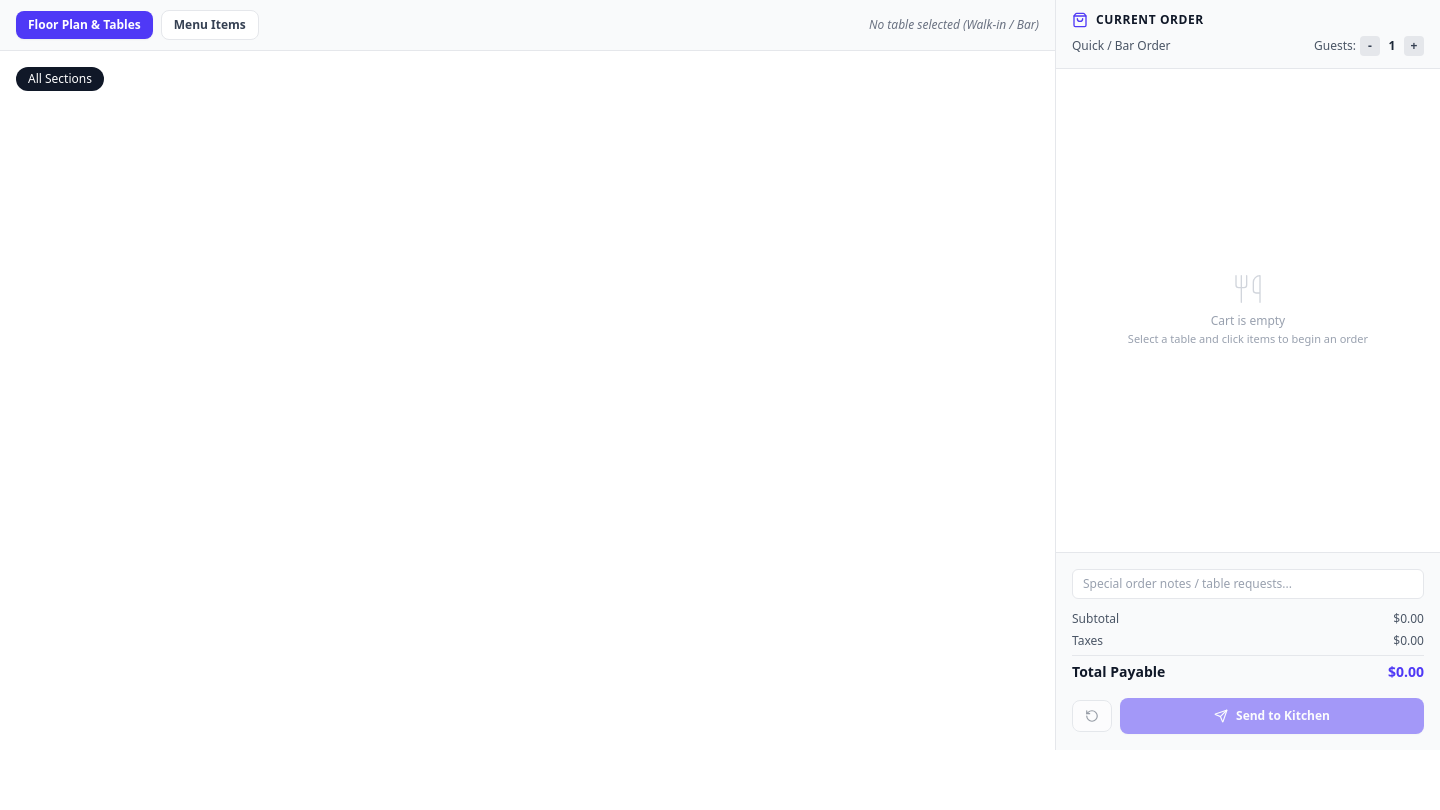
PosPage Component › switches to Menu Items view and displays catalog
Click the button "Menu Items".
click(210, 25)  # box left=161, top=10, right=259, bottom=40
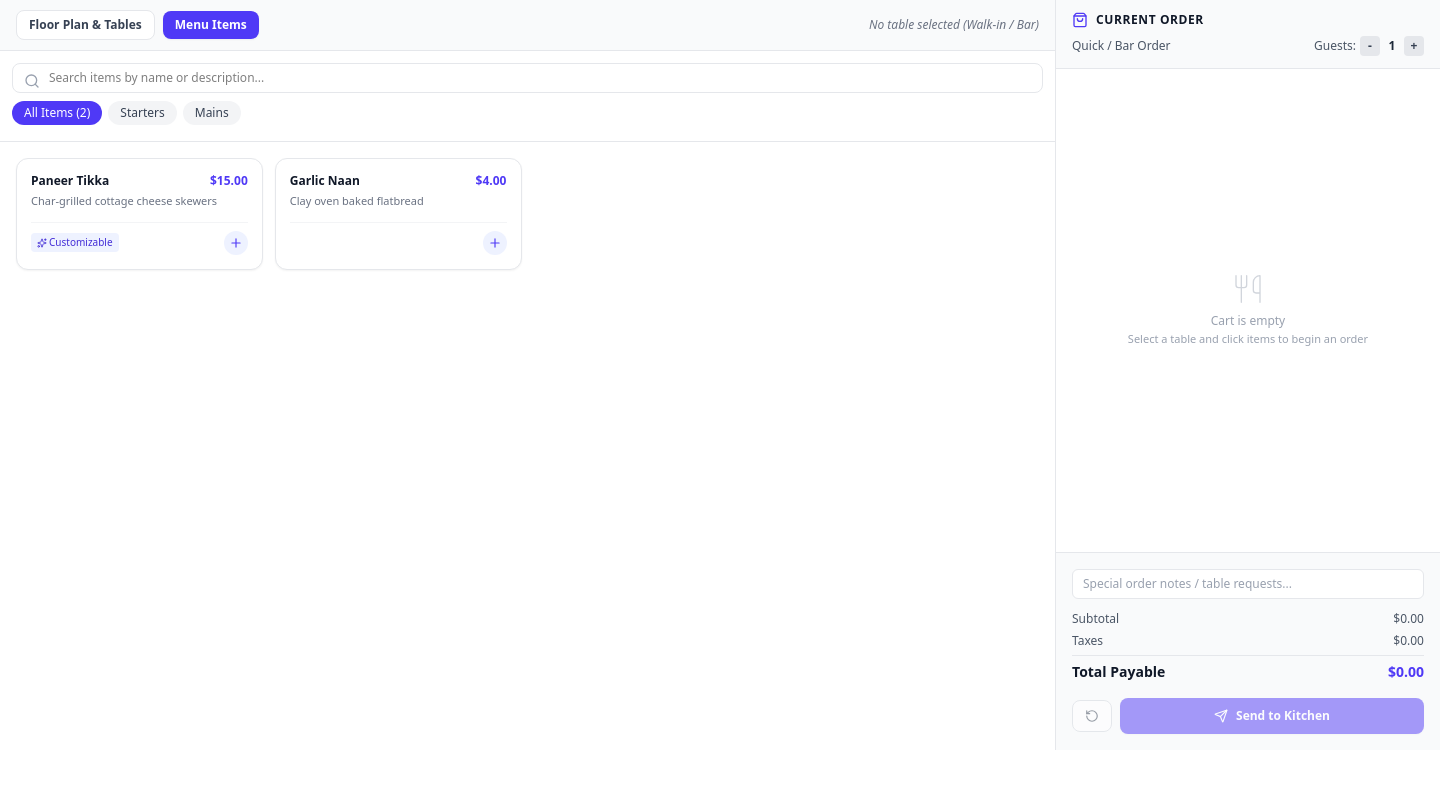
Result: the heading "Paneer Tikka" is shown at left=31, top=173, right=109, bottom=189
Result: the heading "Garlic Naan" is shown at left=290, top=173, right=360, bottom=189
Result: the text "$15.00" is shown at left=210, top=173, right=248, bottom=189
